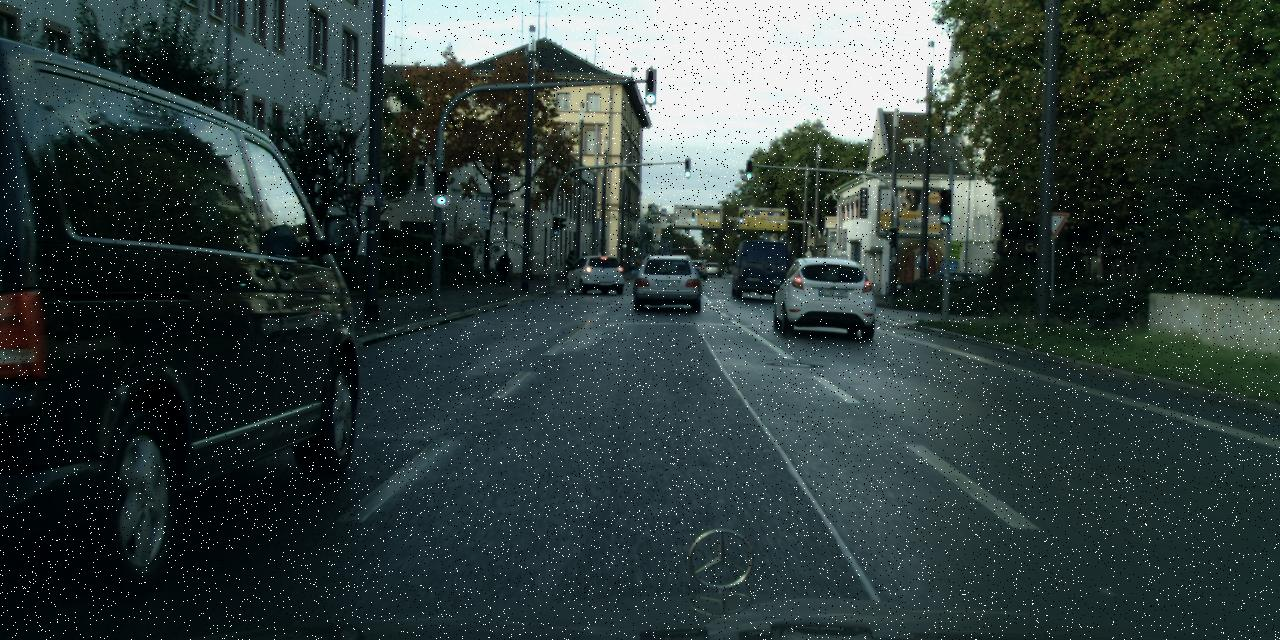ped: (498, 250, 510, 283), (564, 250, 576, 279), (629, 256, 634, 271)
